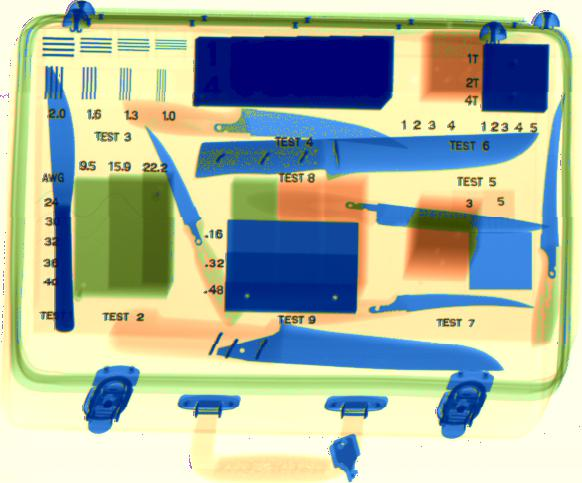Knife: (193, 129, 540, 182), (188, 316, 505, 374), (123, 97, 410, 149), (146, 124, 225, 311), (42, 66, 77, 331), (532, 94, 567, 345), (346, 195, 551, 231), (360, 291, 535, 323)
